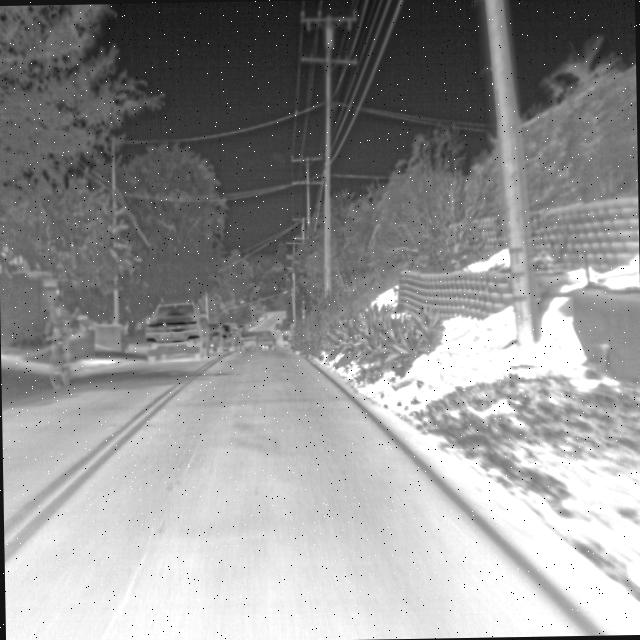Pedestrian: (39, 292, 77, 390)
Vehicle: (142, 297, 208, 366)
